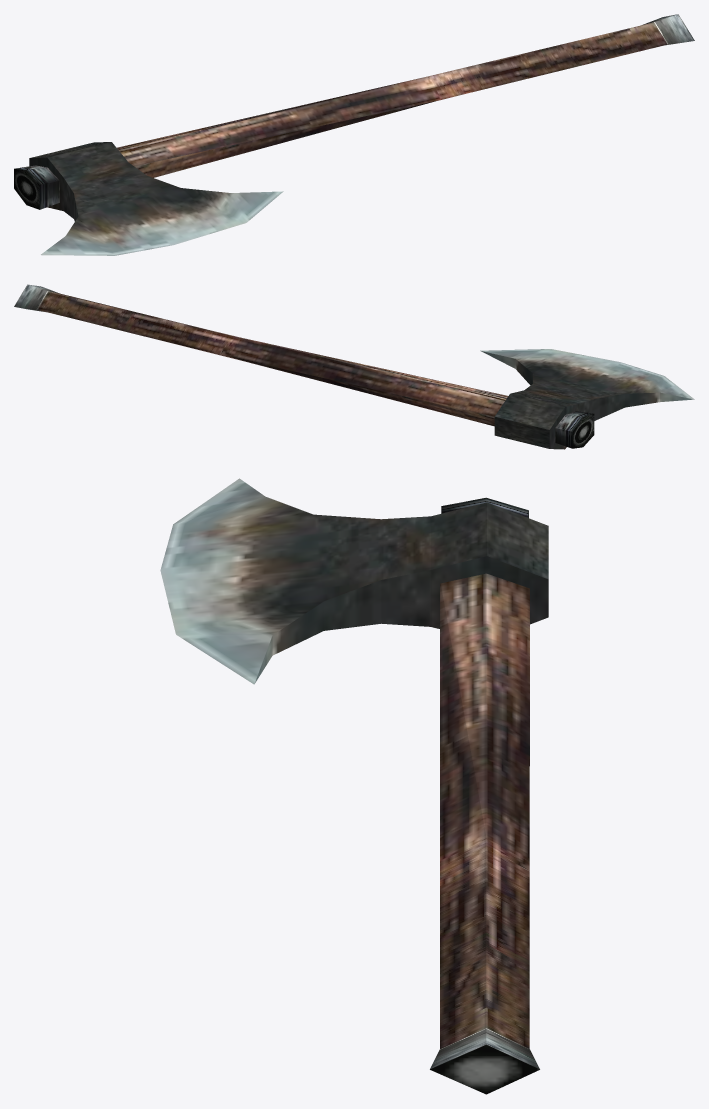
File: ITMW_010_1H_VLK_HATCHET_01.glb
3 renders of one model, top to bottom at view 1: azimuth 30°, elevation 25°; view 2: azimuth 150°, elevation 25°; view 3: azimuth 270°, elevation 25°, orthographic. The views are drawn at different scales.
Parts seen in each view (by area): view 1: ITMW_010_1H_VLK_HATCHET_01; view 2: ITMW_010_1H_VLK_HATCHET_01; view 3: ITMW_010_1H_VLK_HATCHET_01.
Boxes of the visible parts, bbox=[...] form: ITMW_010_1H_VLK_HATCHET_01: bbox=[14, 14, 694, 255]; ITMW_010_1H_VLK_HATCHET_01: bbox=[14, 284, 694, 449]; ITMW_010_1H_VLK_HATCHET_01: bbox=[160, 478, 548, 1094].
Size of the model in its own units: 0.6102 by 0.0408 by 0.1693.
Materials: 2 (2 with a texture image).
